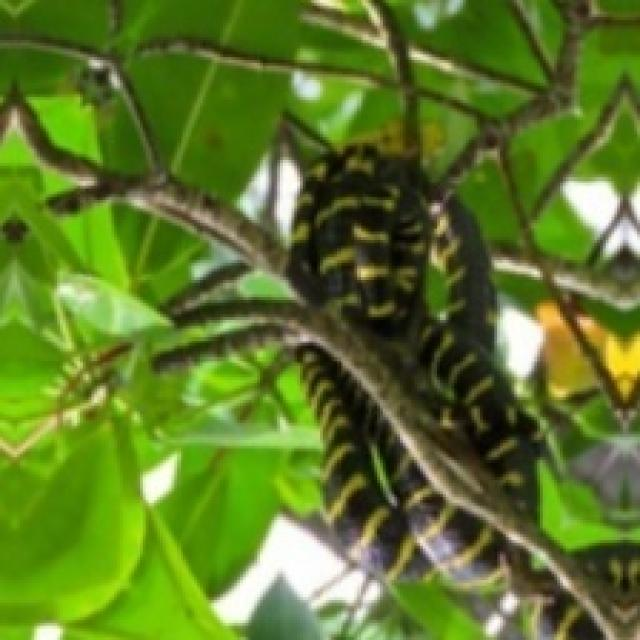mangrove cat snake: (299, 345, 600, 640), (290, 146, 540, 491)
